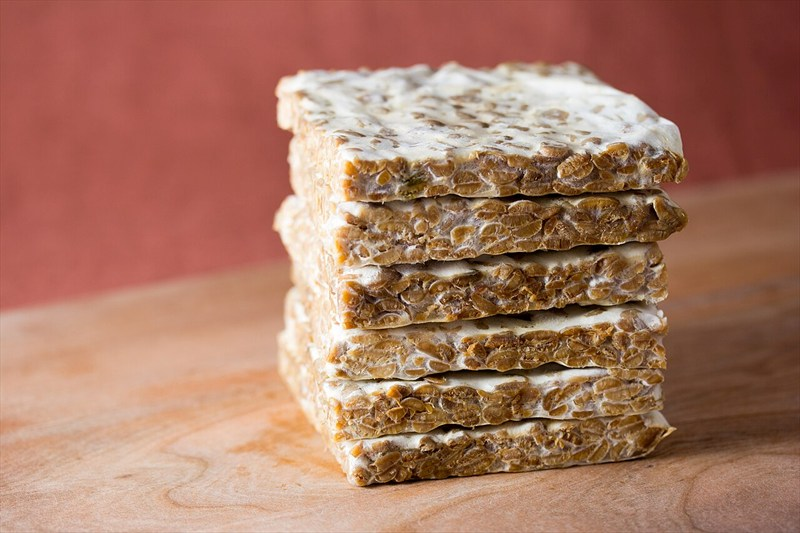Tempe Goreng: (257, 66, 668, 467)
